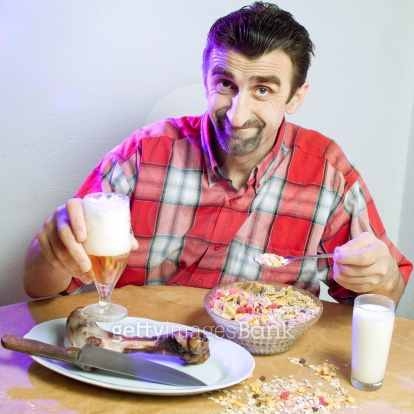glass of milk: (349, 291, 395, 395)
